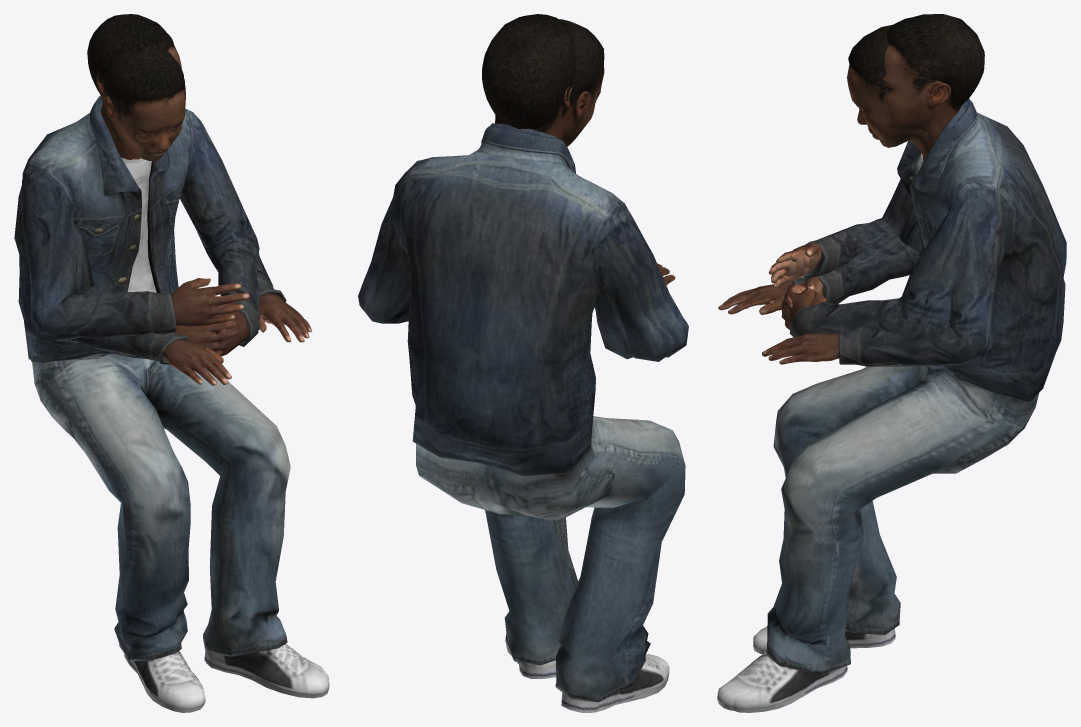
File: cliente-jorge.glb
The picture shows the model from 3 angles, left to right: view 1: azimuth 30°, elevation 25°; view 2: azimuth 150°, elevation 25°; view 3: azimuth 270°, elevation 25°; orthographic projection. The views are drawn at different scales.
Visible parts, largest first — view 1: pose_0, pose_1, pose_2; view 2: pose_1, pose_0, pose_2; view 3: pose_0, pose_2, pose_1.
Boxes of the visible parts, left/top/right/bottom form: pose_0: left=14, top=50, right=329, bottom=712; pose_1: left=18, top=14, right=260, bottom=684; pose_2: left=20, top=27, right=328, bottom=692; pose_1: left=407, top=15, right=688, bottom=712; pose_0: left=358, top=19, right=685, bottom=710; pose_2: left=391, top=14, right=682, bottom=712; pose_0: left=717, top=25, right=1057, bottom=710; pose_2: left=733, top=17, right=1065, bottom=712; pose_1: left=768, top=14, right=1066, bottom=640.
Bounding box in the file's own units: 0.5901 × 1.41 × 0.6962.
2 materials, 2 textured.
